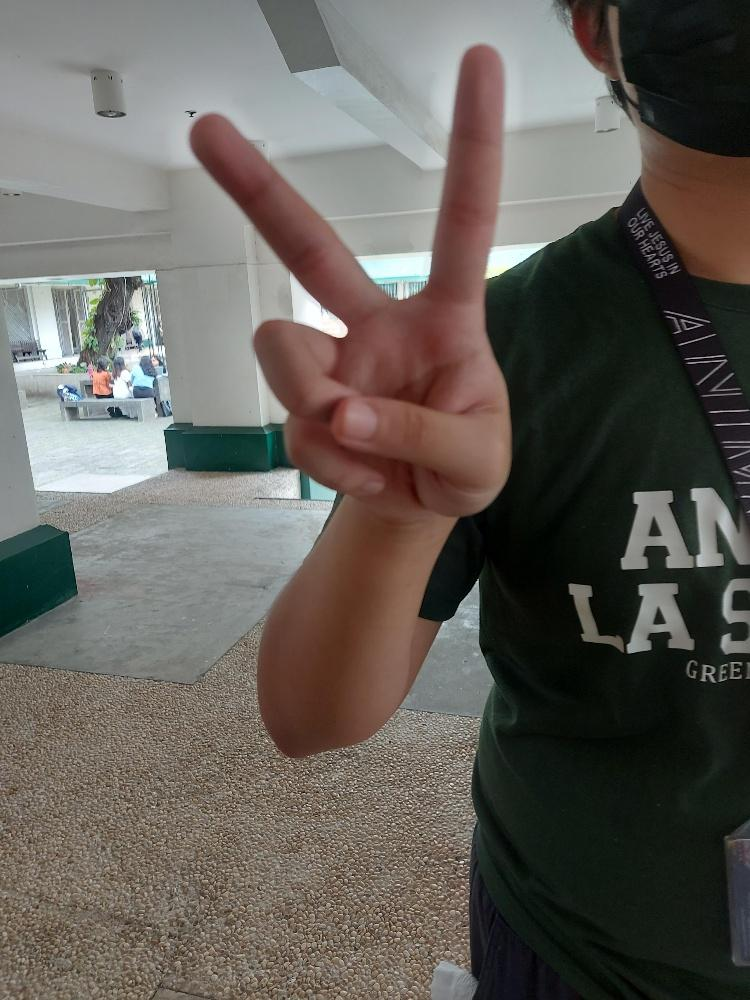v: (187, 42, 513, 516)
